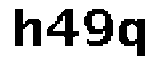4: (45, 7, 79, 52)
9: (80, 6, 113, 53)
h: (9, 6, 43, 50)
q: (118, 17, 147, 60)
